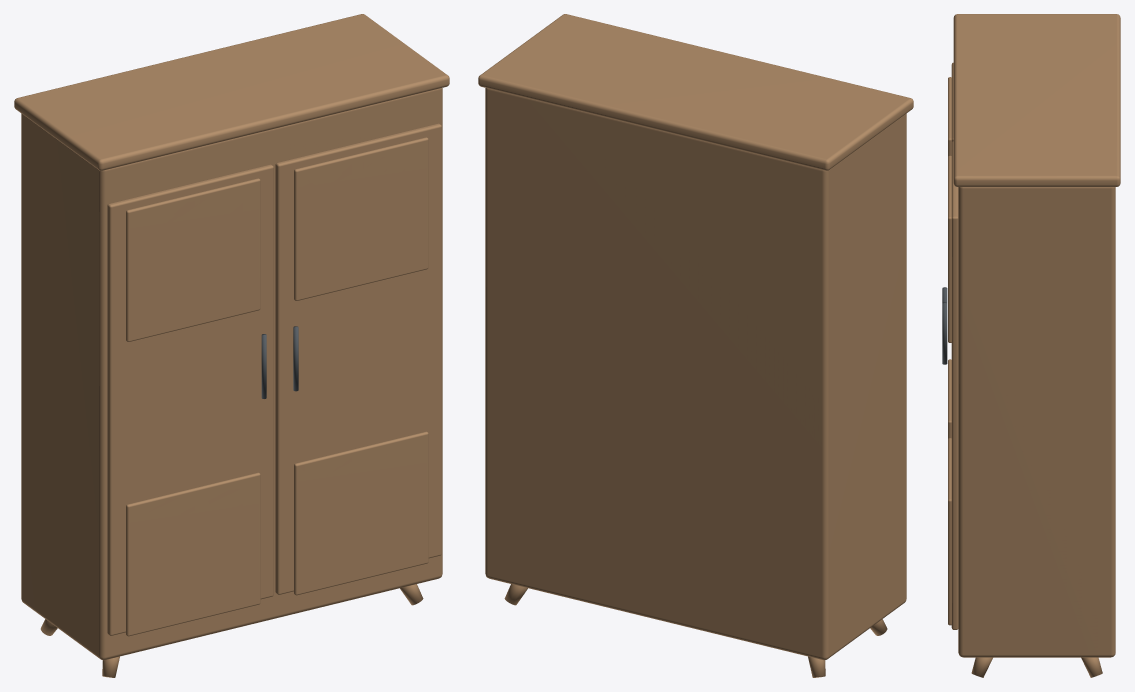
The model's file is atelier-wardrobe.glb.
3 views of the same model, side by side, from view 1: azimuth 30°, elevation 25°; view 2: azimuth 150°, elevation 25°; view 3: azimuth 270°, elevation 25° (orthographic). The views are drawn at different scales.
Parts seen in each view (by area): view 1: legs.043, metal.011; view 2: legs.043; view 3: legs.043, metal.011.
Boxes of the visible parts, x1,y1,x2,y2 form: legs.043: [14, 14, 449, 677]; metal.011: [261, 326, 298, 398]; legs.043: [478, 14, 913, 677]; legs.043: [948, 14, 1120, 677]; metal.011: [942, 287, 947, 364].
Size of the model in its own units: 1.43 by 2.08 by 0.6565.
